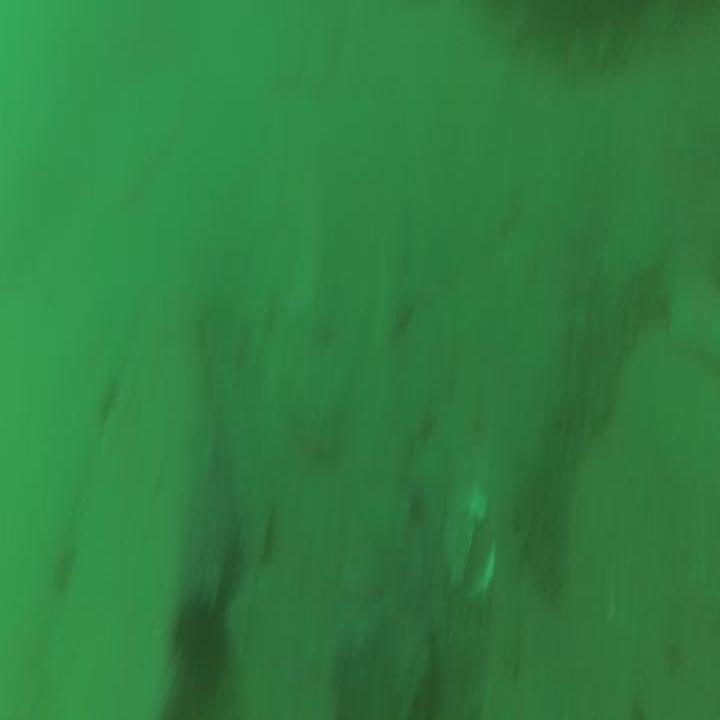echinus: (171, 587, 231, 711)
holothurian: (614, 254, 668, 354)
scallop: (442, 480, 495, 604)
